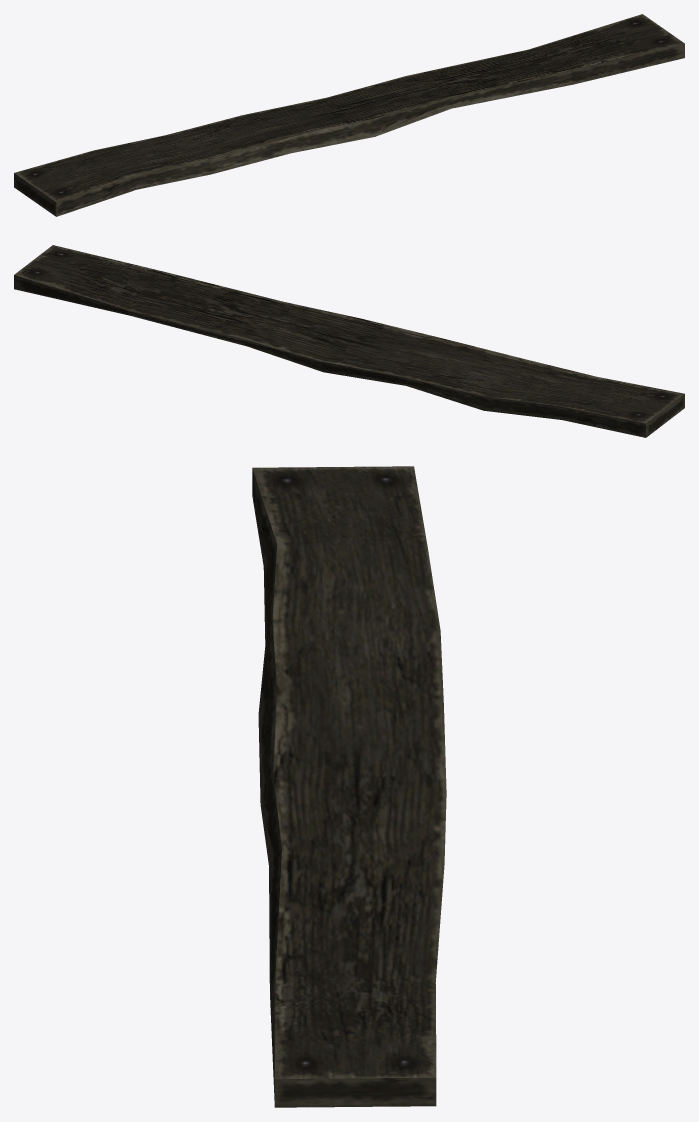
Rendered from plank01_4.5m.dae.
3 renders of one model, top to bottom at view 1: azimuth 30°, elevation 25°; view 2: azimuth 150°, elevation 25°; view 3: azimuth 270°, elevation 25°, orthographic. The views are drawn at different scales.
Visible parts, largest first — view 1: polySurface31; view 2: polySurface31; view 3: polySurface31.
Boxes of the visible parts, x1=… form: polySurface31: x1=14, y1=14, x2=684, y2=216; polySurface31: x1=14, y1=245, x2=684, y2=437; polySurface31: x1=252, y1=466, x2=446, y2=1107.
Size of the model in its own units: 4.51 by 0.1637 by 0.6041.
